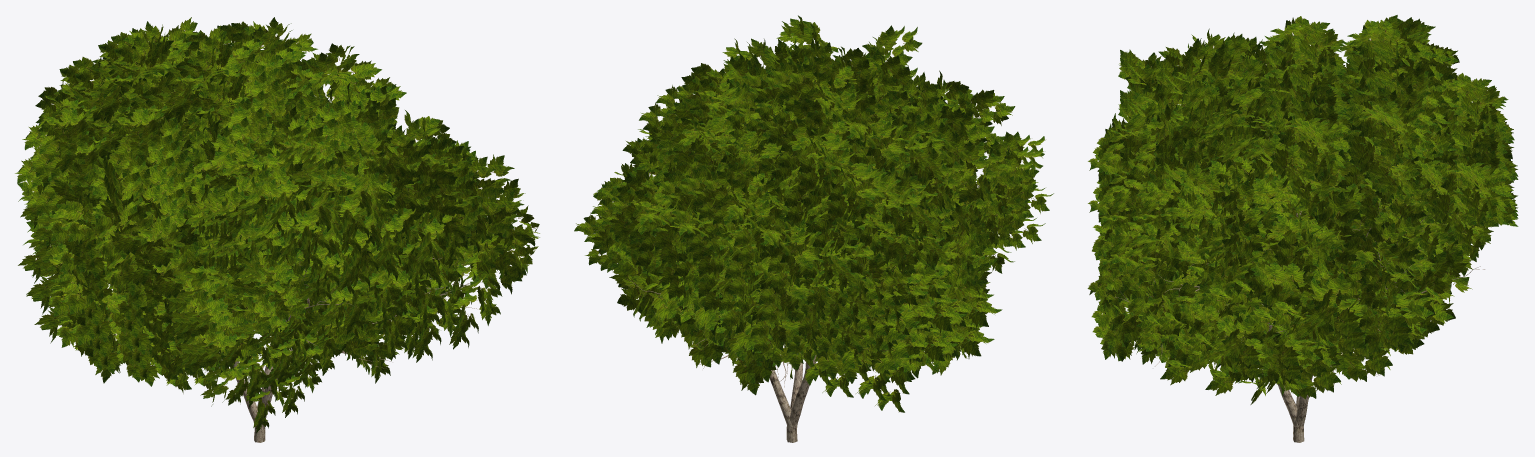
File: arbol.obj
The picture shows the model from 3 angles, left to right: view 1: azimuth 30°, elevation 25°; view 2: azimuth 150°, elevation 25°; view 3: azimuth 270°, elevation 25°; orthographic projection. The views are drawn at different scales.
Visible parts, largest first — view 1: Hojas_017, tree; view 2: Hojas_017, tree; view 3: Hojas_017, tree.
Part boxes in pixels (x1,y1,x2,y2): Hojas_017: (15,17,539,432); tree: (193,165,482,442); Hojas_017: (574,15,1053,412); tree: (594,230,917,442); Hojas_017: (1087,15,1518,404); tree: (1114,137,1484,442).
Bounding box in the file's own units: 133 × 117 × 113.
